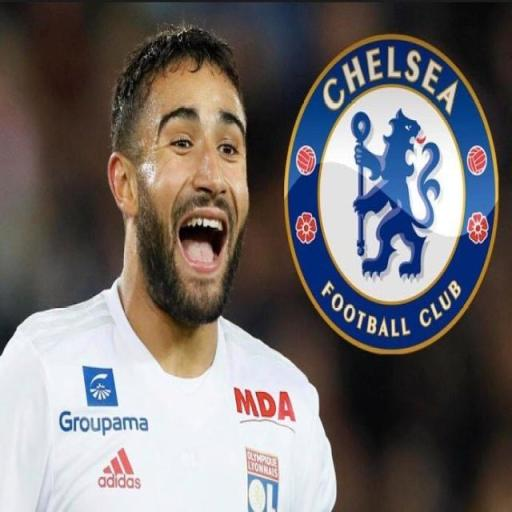Adidas: (96, 447, 142, 493)
